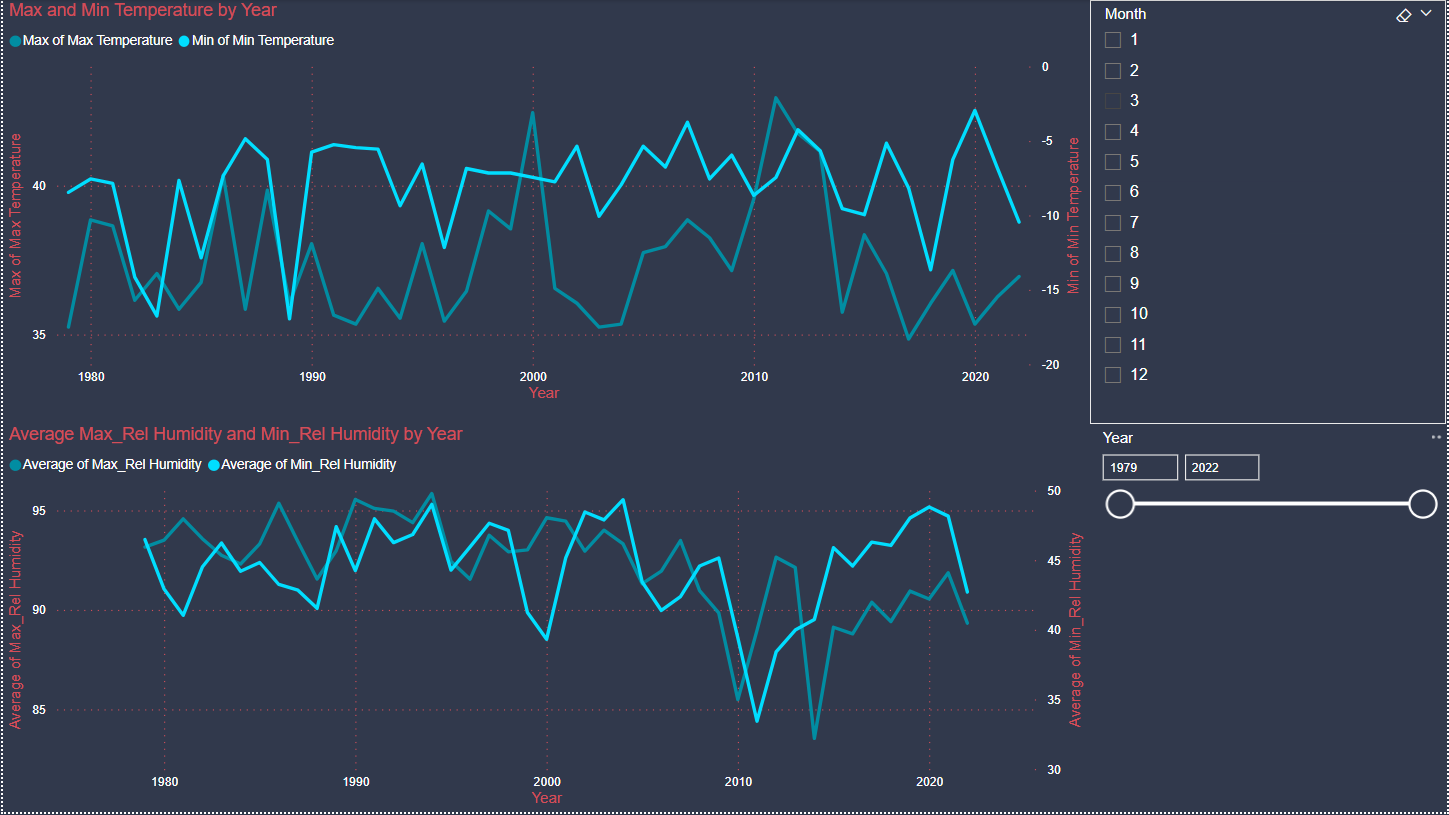

This screenshot's page, from the dashboard's own definition file:
{"tool":"powerbi","page":{"name":"Mississippi - 1","canvas":[1280,720],"ordinal":0},"visuals":[{"type":"lineChart","title":"Max and Min Temperature by Year","fields":{"Category":["Mississippi River CSV.Date.Variation.Date Hierarchy.Year","Mississippi River CSV.Date.Variation.Date Hierarchy.Quarter","Mississippi River CSV.Date.Variation.Date Hierarchy.Month","Mississippi River CSV.Date.Variation.Date Hierarchy.Day"],"Y":["Max(Mississippi River CSV.Max Temperature)"],"Y2":["Min(Mississippi River CSV.Min Temperature)"]},"box":[0,0,961.8,361.3],"z":0},{"type":"slicer","fields":{"Values":["Mississippi River CSV.Month"]},"box":[963.5,0,316.2,376.4],"z":1000},{"type":"lineChart","title":"Average Max_Rel Humidity and Min_Rel Humidity by Year","fields":{"Category":["Mississippi River CSV.Year"],"Y":["Avg(Mississippi River CSV.Max_Rel Humidity)"],"Y2":["Avg(Mississippi River CSV.Min_Rel Humidity)"]},"box":[0,376.4,963.5,343.6],"z":2000},{"type":"slicer","fields":{"Values":["Mississippi River CSV.Year"]},"box":[961.8,376.4,317.9,343.6],"z":3000}]}

Visuals, with their boxes in screenshot pixels (x1, y1, x2, y2), scaled from the page's 1280x720 canvas onto the 1449x815 screenshot:
"Max and Min Temperature by Year" lineChart: box(0, 0, 1089, 409)
slicer - Mississippi River CSV.Month: box(1091, 0, 1448, 426)
"Average Max_Rel Humidity and Min_Rel Humidity by Year" lineChart: box(0, 426, 1091, 814)
slicer - Mississippi River CSV.Year: box(1089, 426, 1448, 814)
